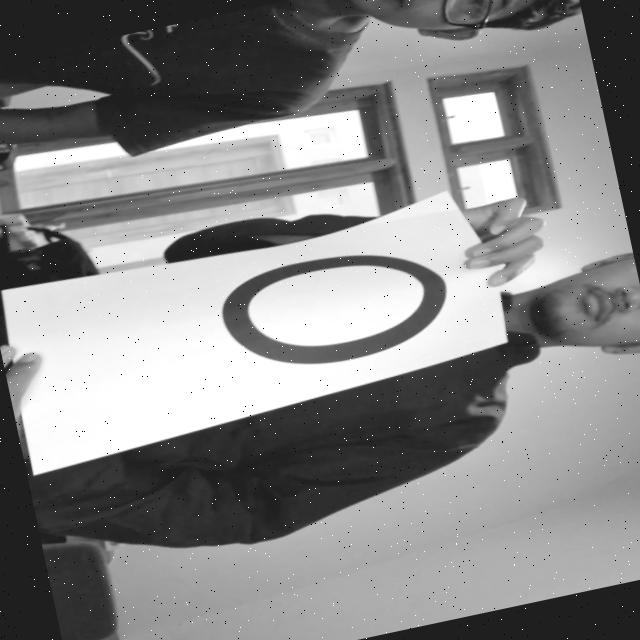o: (196, 202, 489, 404)
